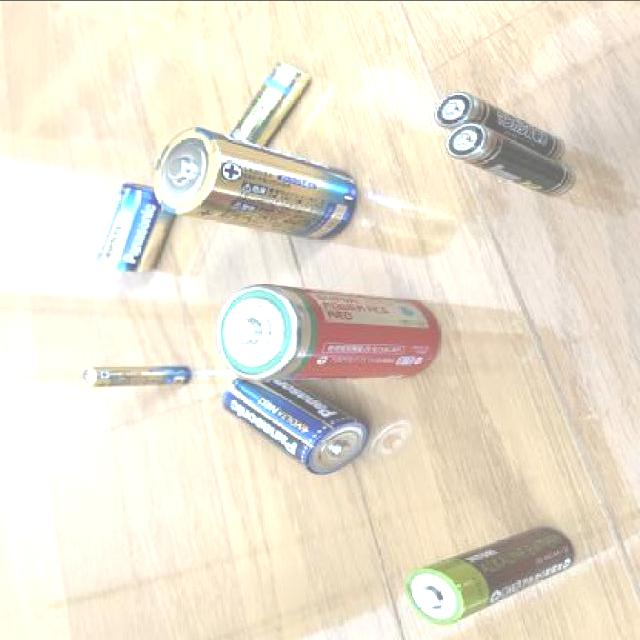AA: (402, 522, 576, 626)
AAA: (75, 362, 194, 389)
